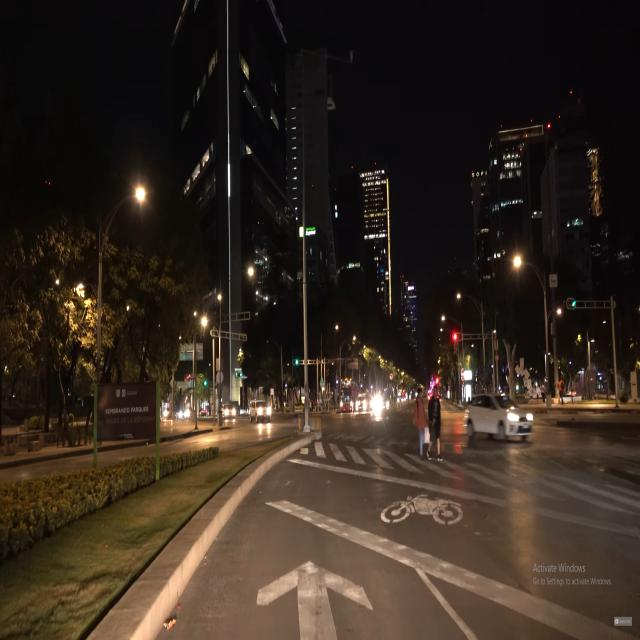headlights: (500, 404, 540, 432), (254, 400, 277, 424), (221, 404, 240, 422)
